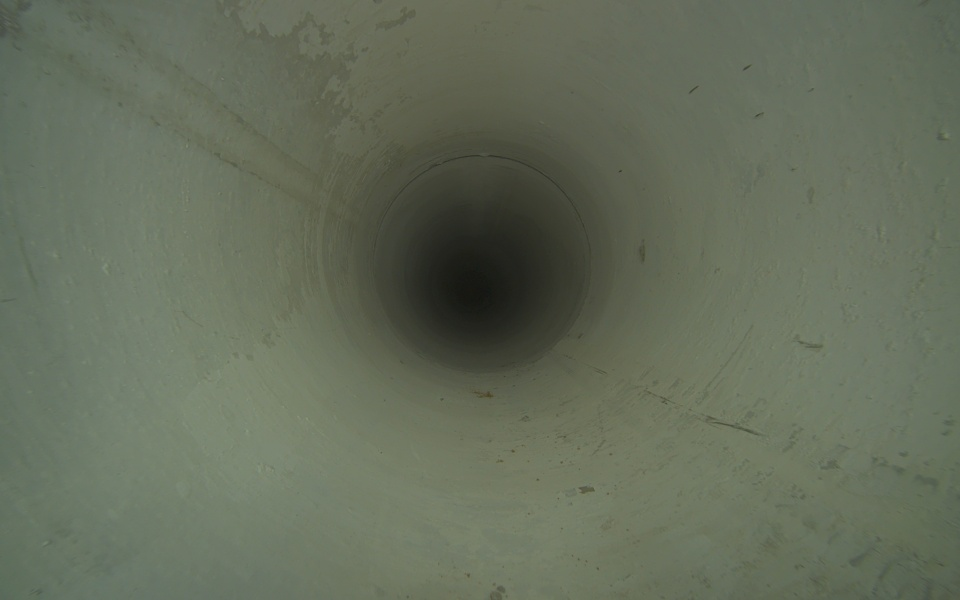circle1: (369, 154, 590, 377)
circle2: (450, 258, 501, 312)
